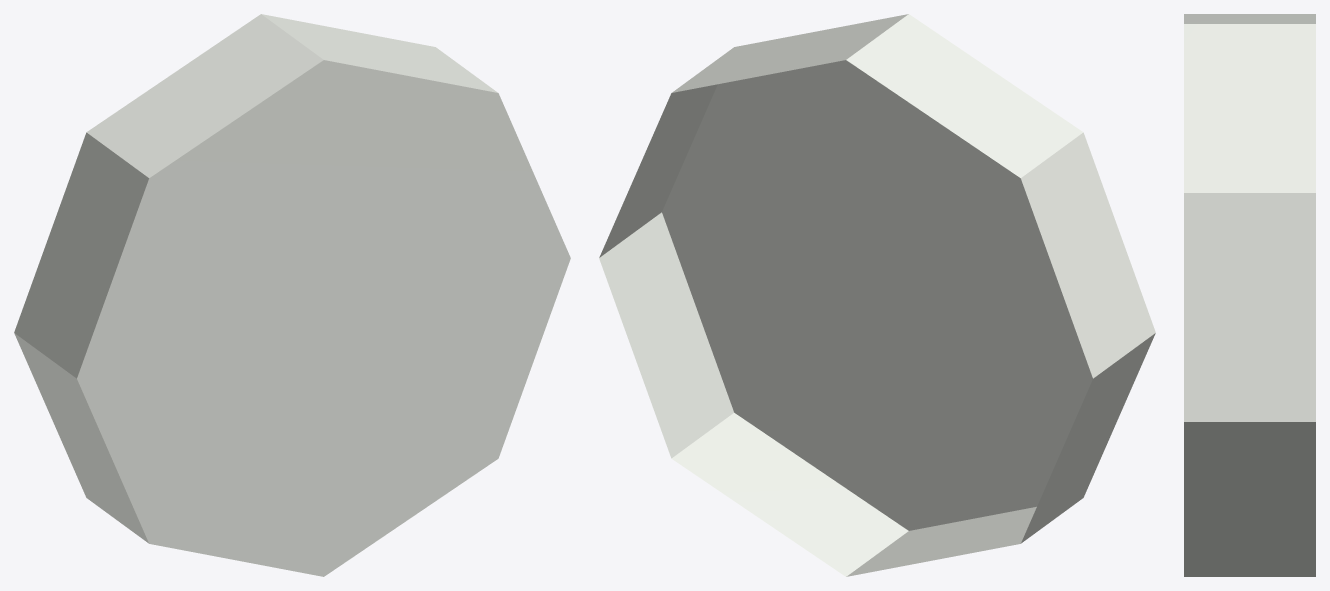
File: Window2.fbx
3 renders of one model, left to right at view 1: azimuth 30°, elevation 25°; view 2: azimuth 150°, elevation 25°; view 3: azimuth 270°, elevation 25°, orthographic. The views are drawn at different scales.
Visible parts, largest first — view 1: Window2; view 2: Window2; view 3: Window2.
Boxes of the visible parts, x1,y1,x2,y2 form: Window2: [14, 14, 570, 576]; Window2: [599, 14, 1155, 576]; Window2: [1184, 14, 1315, 576].
Bounding box in the file's own units: 189 × 189 × 41.66.
